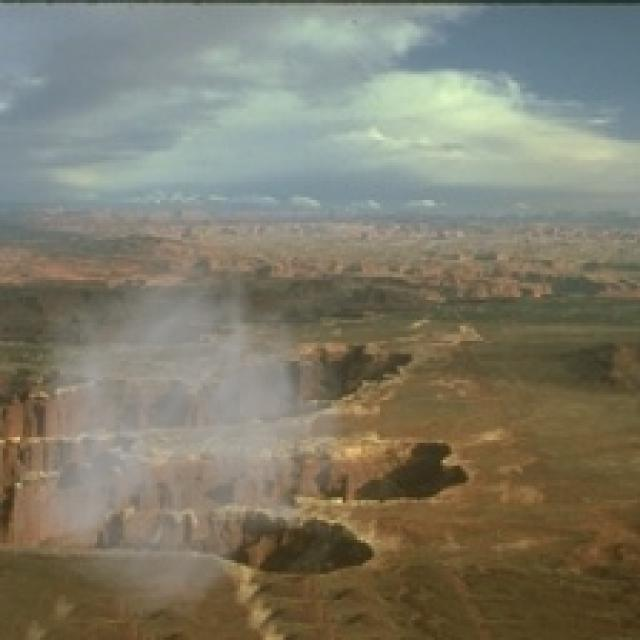smoke: (14, 229, 383, 637)
